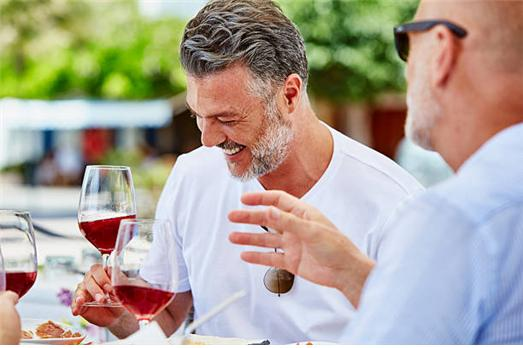alcohol: (76, 163, 138, 309), (111, 219, 180, 329), (0, 210, 37, 299)
